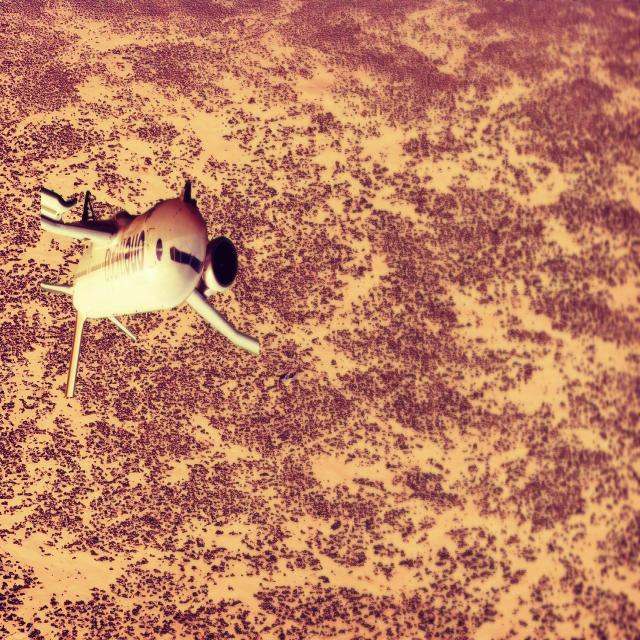airplane: (38, 178, 260, 398)
